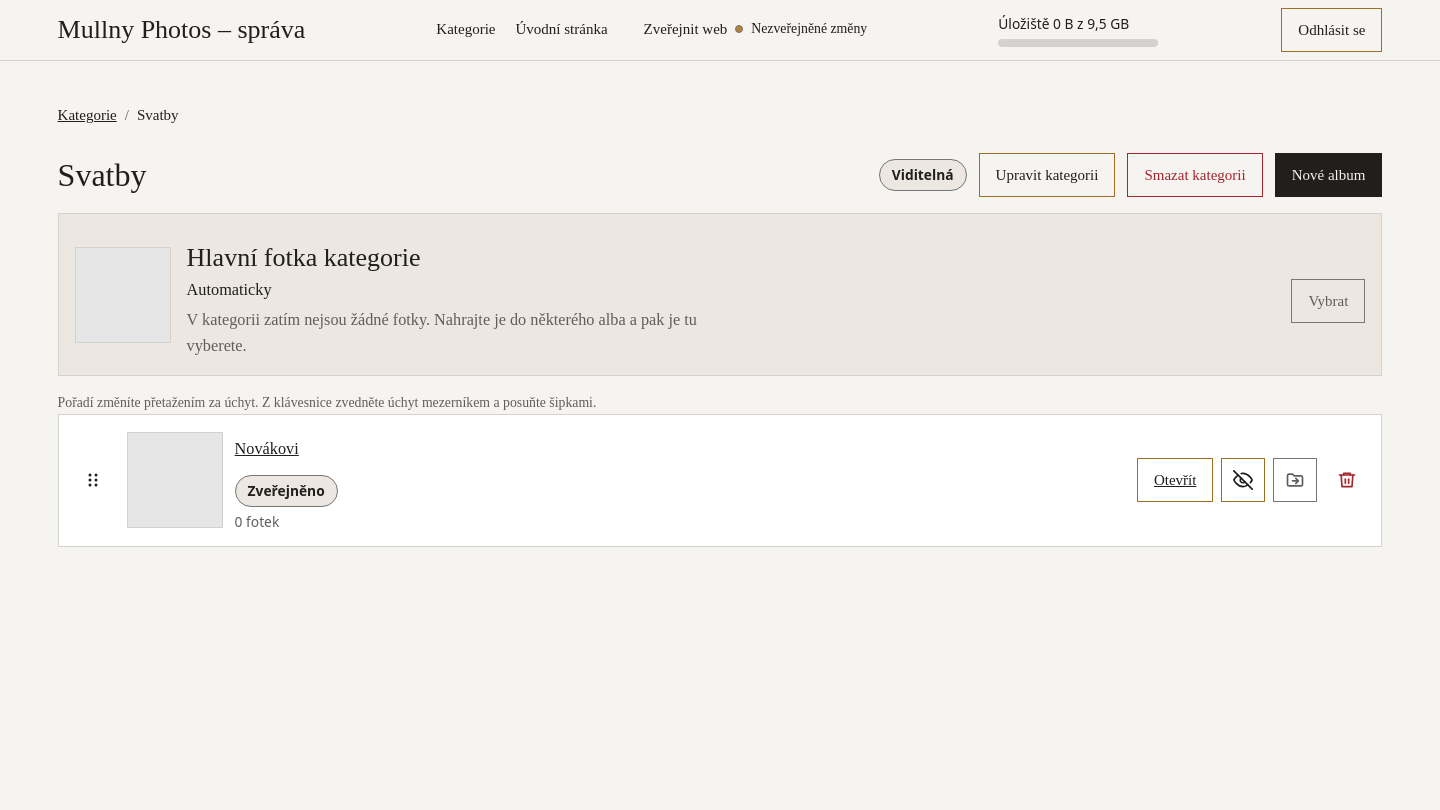
Test: publish and hide › cancelling the hide dialog changes nothing
Expected: the heading "Svatby" is shown, [58,156,146,194]
Expected: the link "Novákovi" is shown, [235,439,299,458]
Click the button named "Skrýt album: Novákovi" at x=1243, y=480, box [1221,458,1265,502]
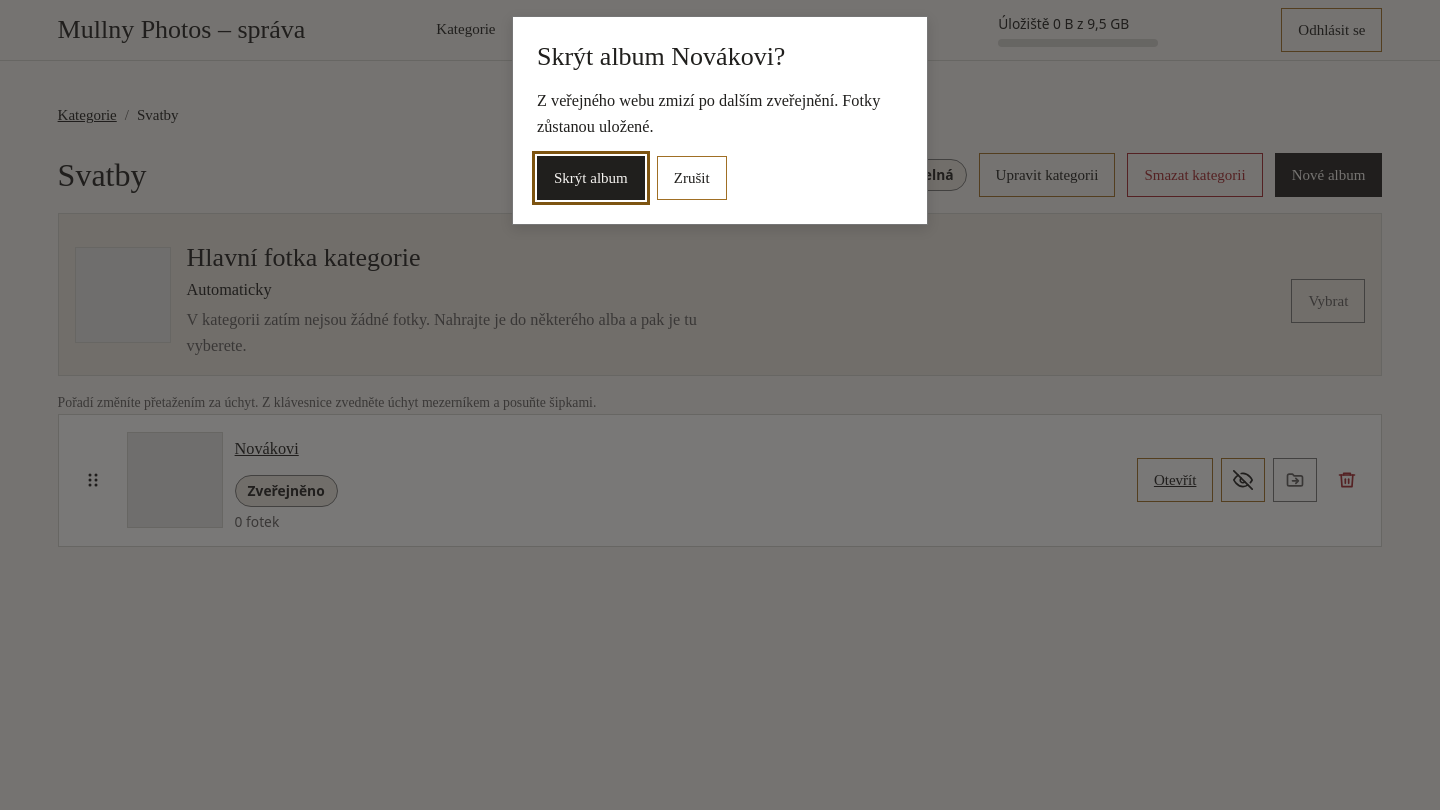
Click the button "Zrušit" at x=692, y=178, box [657,156,727,200]
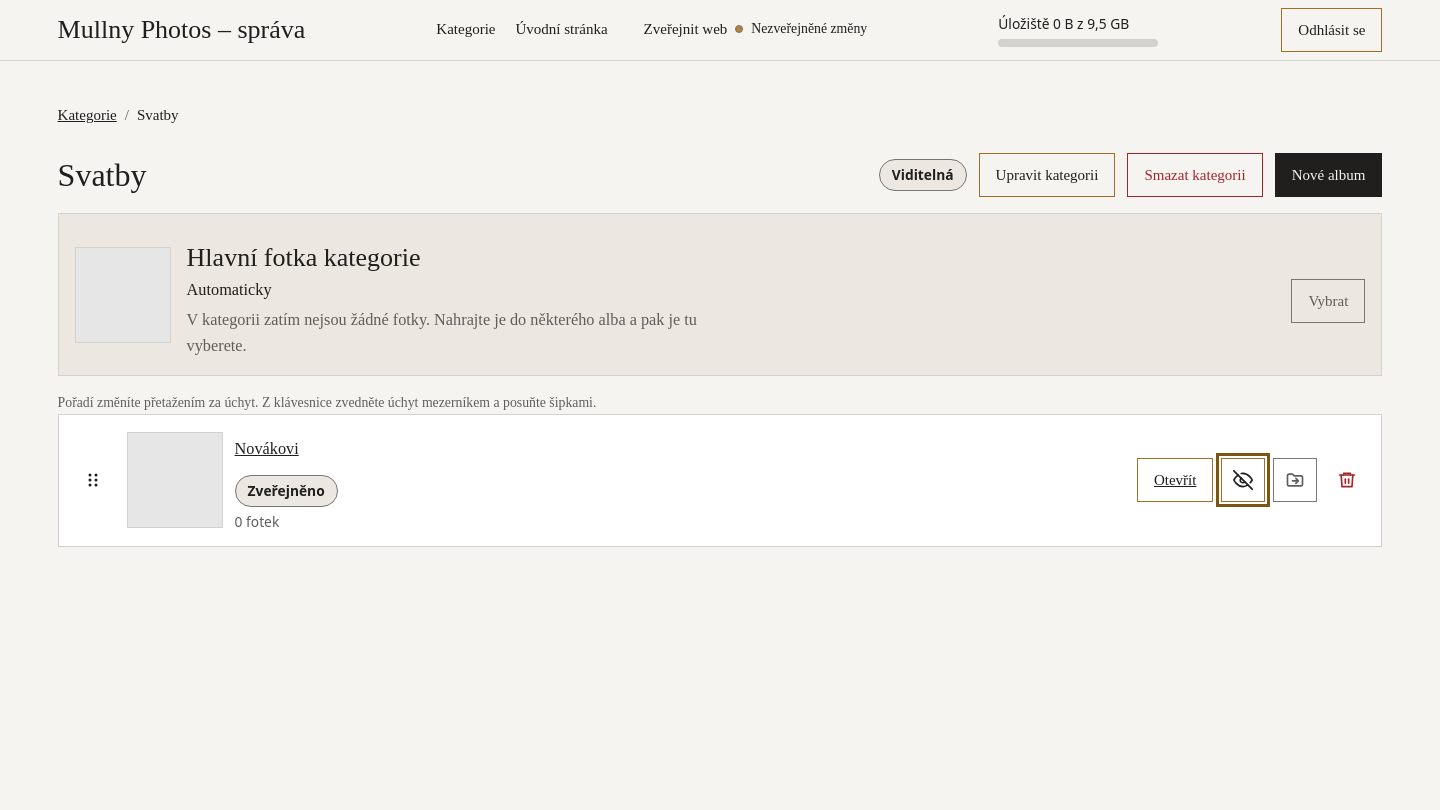
Expected: the dialog is gone
